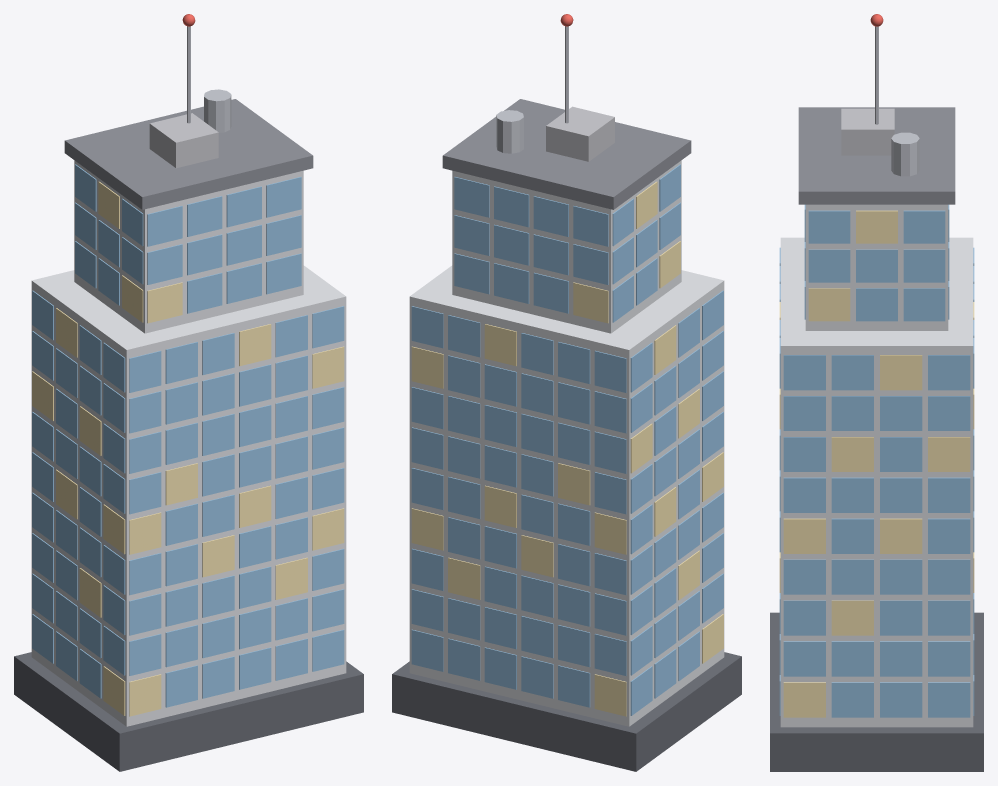
Rendered from city__tower.fbx.
3 renders of one model, left to right at view 1: azimuth 30°, elevation 25°; view 2: azimuth 150°, elevation 25°; view 3: azimuth 270°, elevation 25°, orthographic.
Visible parts, largest first — view 1: city__tower; view 2: city__tower; view 3: city__tower.
Boxes of the visible parts, bbox=[...] form: city__tower: bbox=[14, 14, 363, 771]; city__tower: bbox=[392, 14, 741, 771]; city__tower: bbox=[770, 14, 983, 771].
Size of the model in its own units: 8 by 21.58 by 6.
